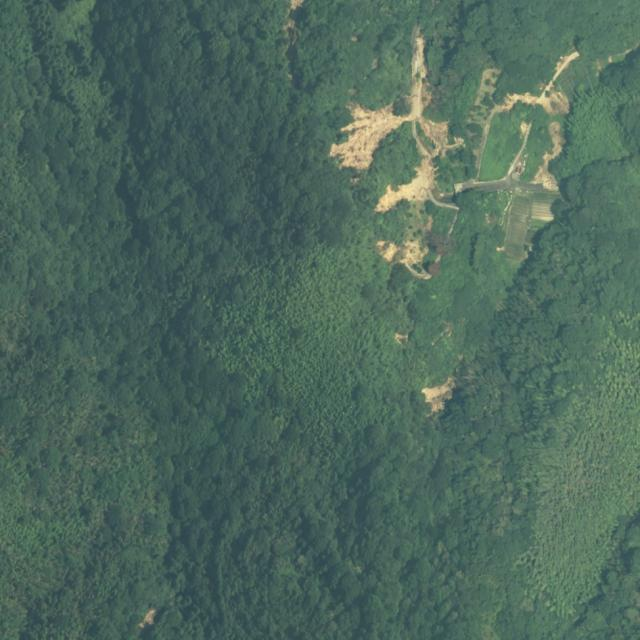landslide: (330, 23, 465, 279), (468, 47, 597, 178), (376, 25, 465, 212), (330, 102, 413, 169), (500, 189, 554, 262), (524, 121, 566, 192), (423, 377, 457, 415), (361, 106, 401, 128)
